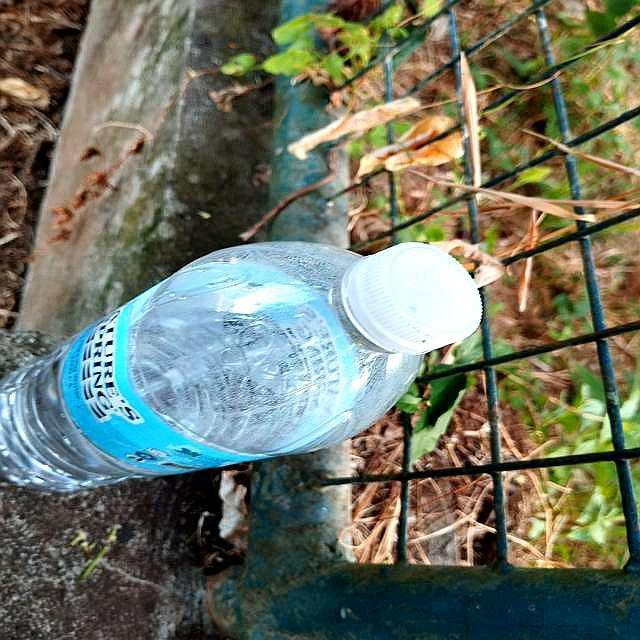Non-biodegradable: (2, 237, 486, 497)
